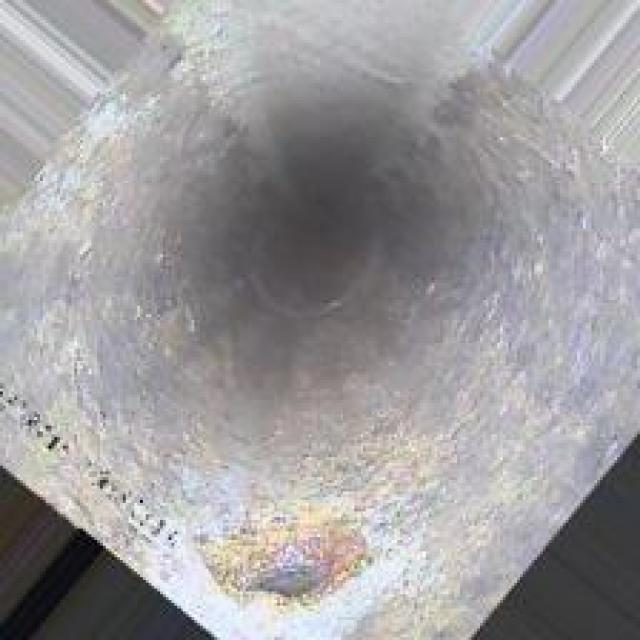ferrule: (208, 526, 368, 603)
